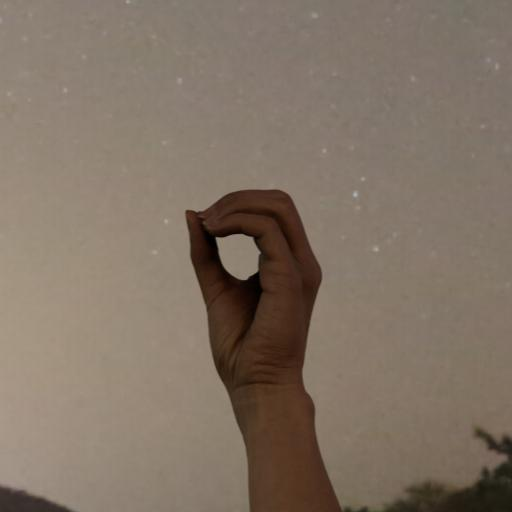O: (178, 186, 346, 416)
